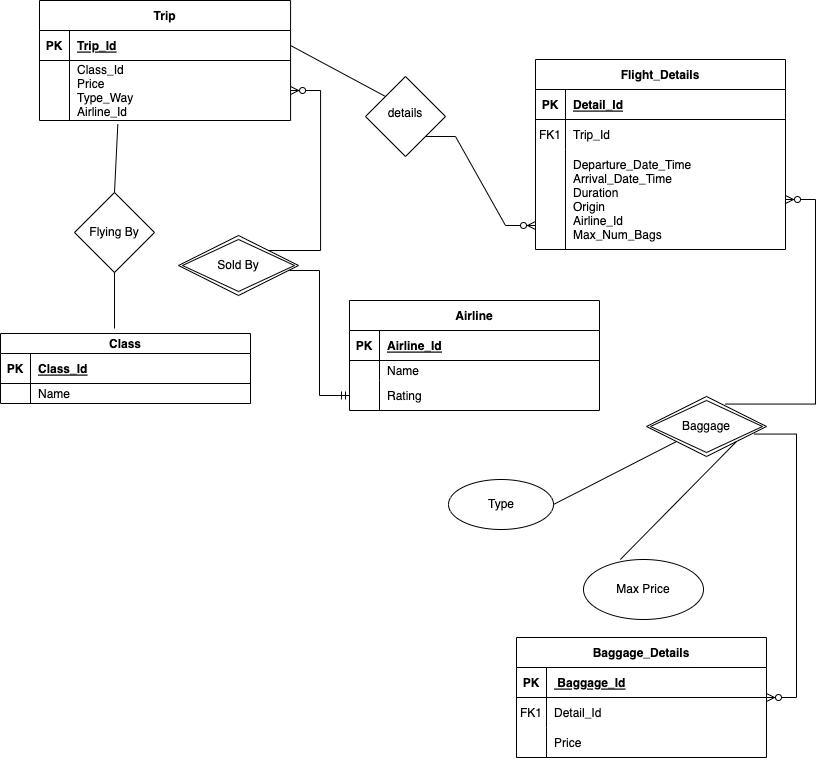attribute: (583, 559, 705, 621), (445, 482, 553, 530)
entity: (533, 56, 791, 251), (345, 293, 605, 415), (513, 634, 767, 758), (37, 1, 292, 124), (1, 333, 252, 404)
relationship: (365, 77, 447, 158), (76, 192, 154, 272)
weakrelationship: (177, 234, 300, 295), (646, 397, 768, 457)
